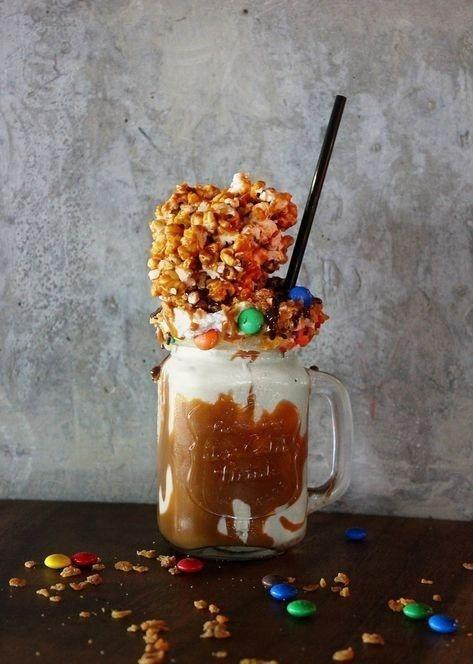glass-mug: (151, 329, 358, 563)
